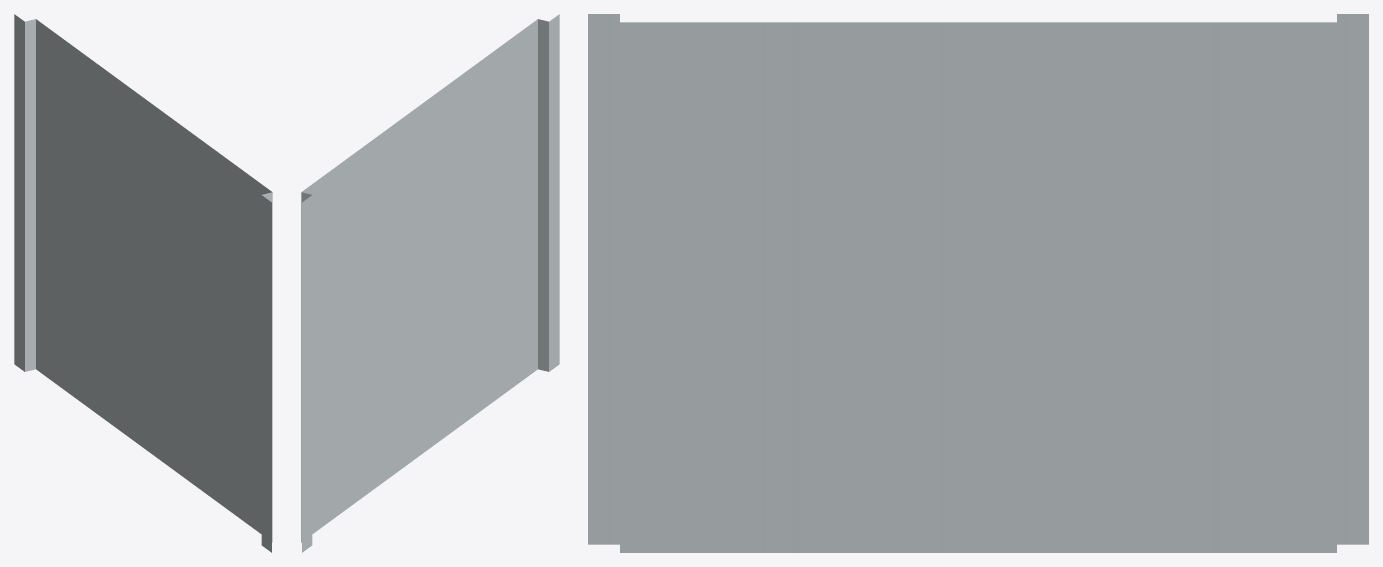
Rendered from 4m_custom_blankwall.fbx.
3 views of the same model, side by side, from view 1: azimuth 30°, elevation 25°; view 2: azimuth 150°, elevation 25°; view 3: azimuth 270°, elevation 25° (orthographic). The views are drawn at different scales.
Parts seen in each view (by area): view 1: 4m_custom_blank; view 2: 4m_custom_blank; view 3: 4m_custom_blank.
Part boxes in pixels (bbox=[...]): 4m_custom_blank: bbox=[14, 14, 272, 552]; 4m_custom_blank: bbox=[301, 14, 559, 552]; 4m_custom_blank: bbox=[588, 14, 1368, 552].
Bounding box in the file's own units: 10 × 300 × 400.
